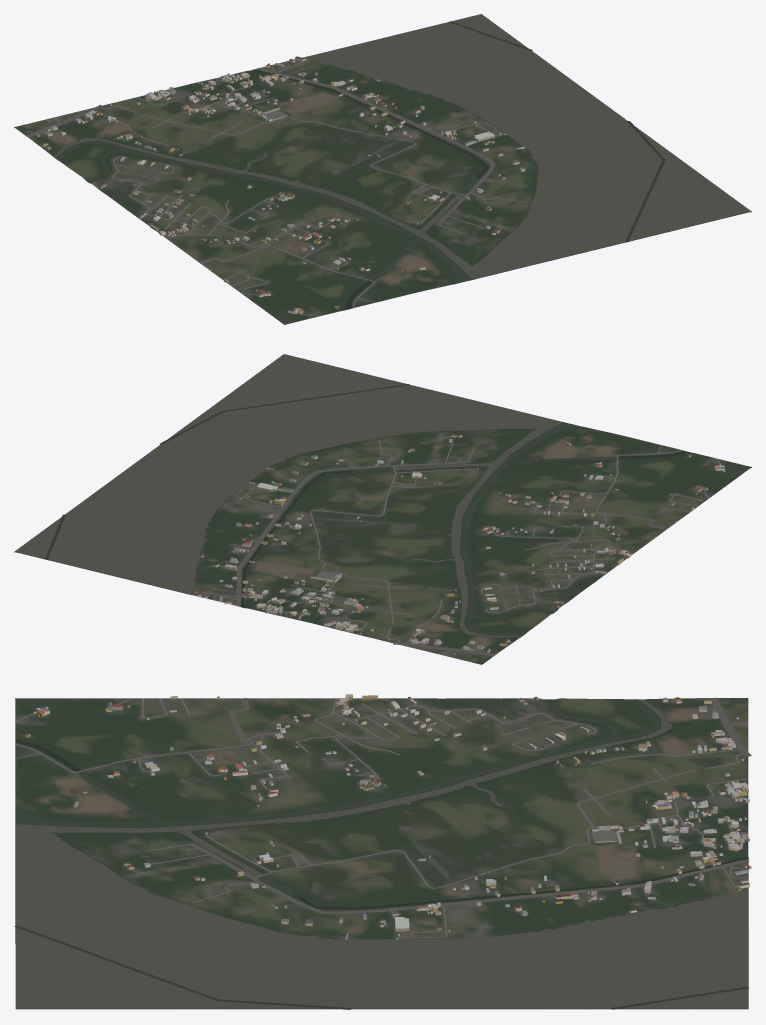
The picture shows the model from 3 angles, top to bottom: view 1: azimuth 30°, elevation 25°; view 2: azimuth 150°, elevation 25°; view 3: azimuth 270°, elevation 25°; orthographic projection. The views are drawn at different scales.
Visible parts, largest first — view 1: ground, water, buildings, roads; view 2: ground, water, buildings, roads; view 3: ground, water, buildings, roads.
Part boxes in pixels (bbox=[...]): ground: bbox=[14, 14, 751, 324]; water: bbox=[53, 14, 750, 309]; buildings: bbox=[34, 56, 525, 314]; roads: bbox=[25, 61, 527, 316]; ground: bbox=[14, 354, 751, 664]; water: bbox=[15, 354, 690, 637]; buildings: bbox=[195, 434, 725, 654]; roads: bbox=[202, 440, 721, 656]; ground: bbox=[15, 698, 748, 1009]; water: bbox=[14, 698, 748, 1009]; buildings: bbox=[24, 694, 751, 939]; roads: bbox=[15, 697, 751, 937].
Size of the model in its own units: 1407 by 14.61 by 1410.
